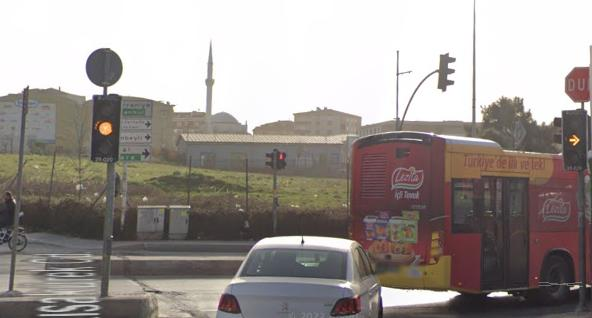yellowlight: (94, 96, 116, 160), (562, 111, 587, 163)
